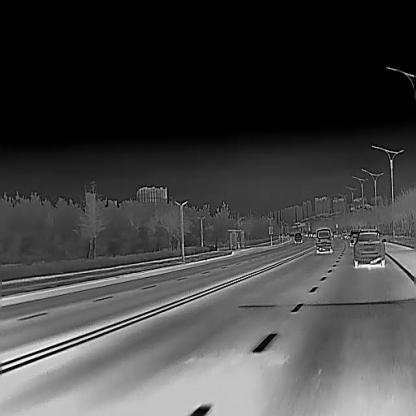car: (350, 229, 386, 266), (314, 228, 334, 254), (349, 230, 359, 245), (294, 231, 303, 243), (340, 230, 348, 239), (332, 231, 338, 238), (341, 234, 348, 239), (304, 231, 310, 236), (310, 232, 316, 237)
